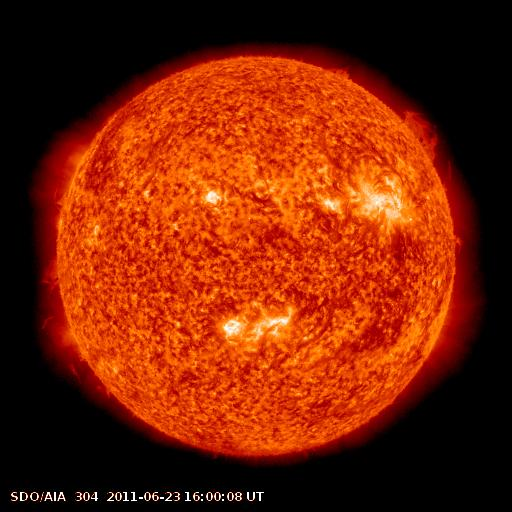prominence: (34, 308, 116, 402), (397, 102, 459, 191), (31, 249, 74, 295), (323, 59, 359, 83), (445, 230, 471, 254)
